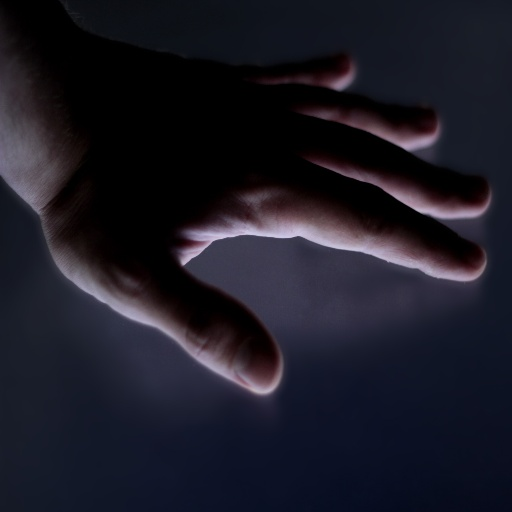hand: (0, 10, 492, 395)
